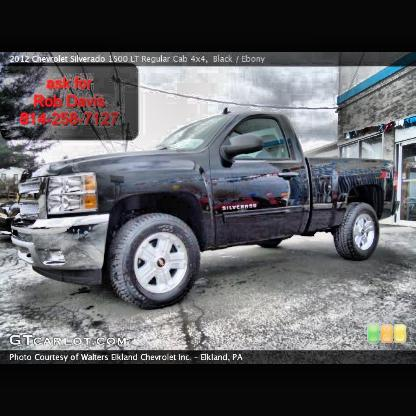Chevrolet Silverado 2500HD Regular Cab 2012: (12, 110, 400, 311)
